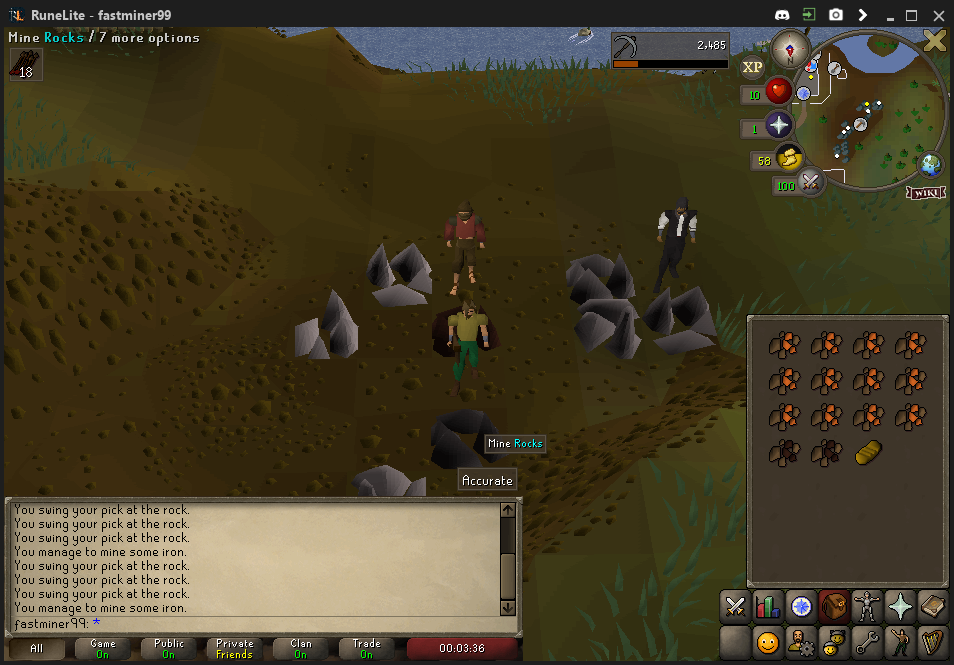depleted: (426, 404, 512, 471)
ore: (430, 302, 500, 360)
